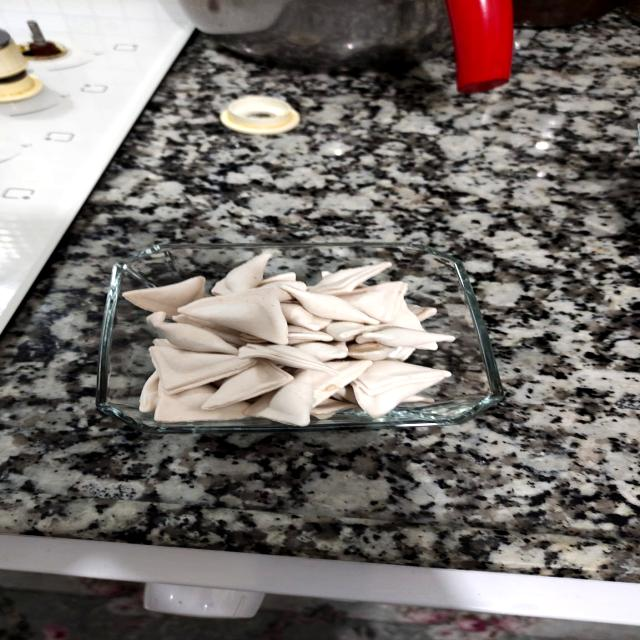turkish dumplings: (97, 248, 490, 432)
